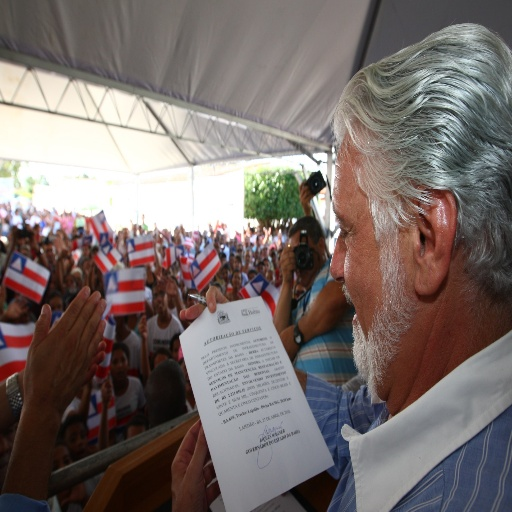hand: (23, 282, 105, 414), (169, 419, 220, 511), (177, 284, 230, 323), (84, 334, 105, 382), (279, 240, 297, 283), (279, 325, 299, 362), (159, 276, 179, 300), (299, 180, 314, 210), (138, 316, 147, 339)
